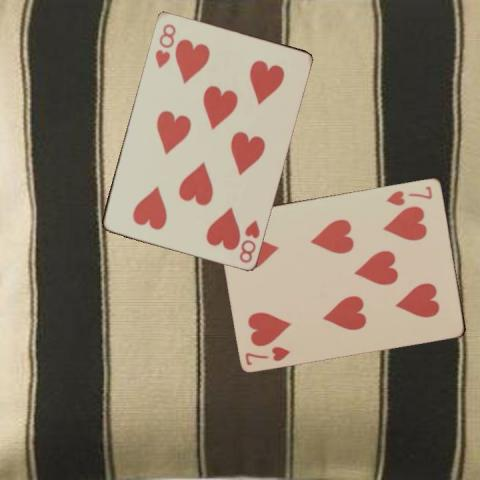7h: (382, 182, 434, 206), (242, 343, 292, 367)
8h: (152, 20, 177, 69), (236, 216, 261, 264)
